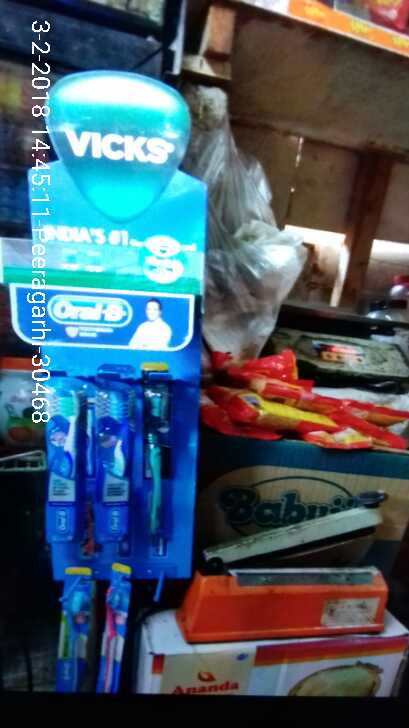oralb: (91, 382, 129, 548), (140, 364, 173, 535), (46, 384, 78, 540), (54, 564, 91, 693), (99, 562, 125, 694)
